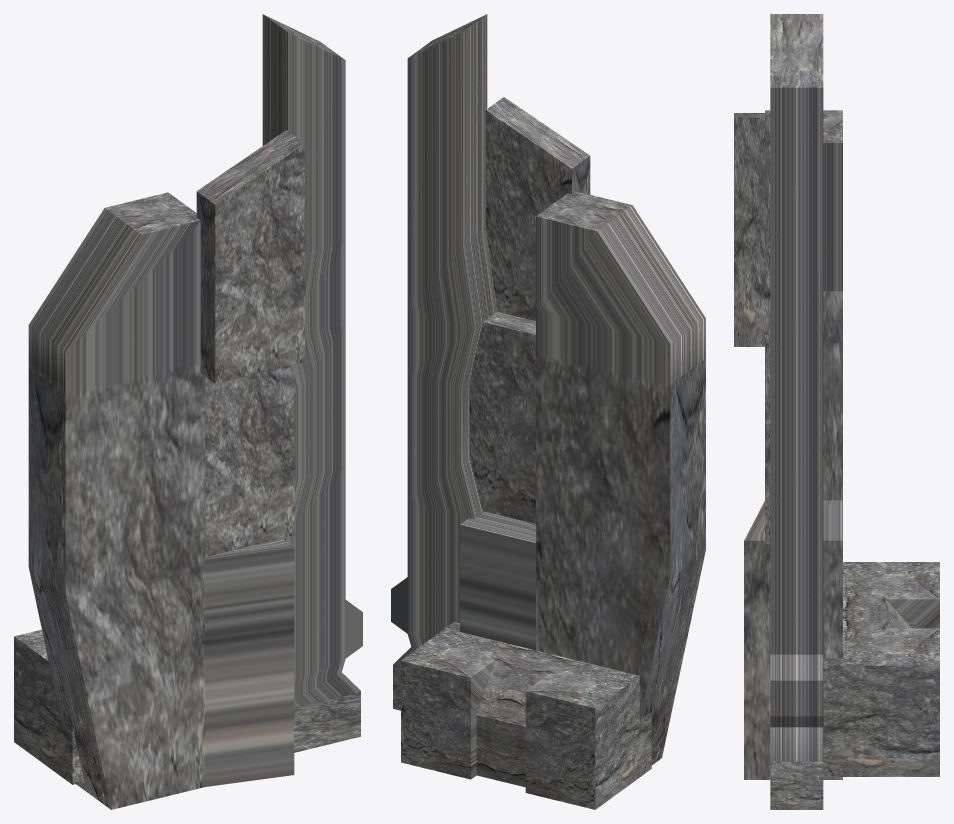
Rendered from build1.fbx.
3 views of the same model, side by side, from view 1: azimuth 30°, elevation 25°; view 2: azimuth 150°, elevation 25°; view 3: azimuth 270°, elevation 25° (orthographic). The views are drawn at different scales.
Parts seen in each view (by area): view 1: pCube6; view 2: pCube6; view 3: pCube6.
Boxes of the visible parts, x1,y1,x2,y2 form: pCube6: [14, 14, 362, 809]; pCube6: [391, 14, 705, 809]; pCube6: [734, 14, 939, 809].
Bounding box in the file's own units: 1030 × 2405 × 583.
